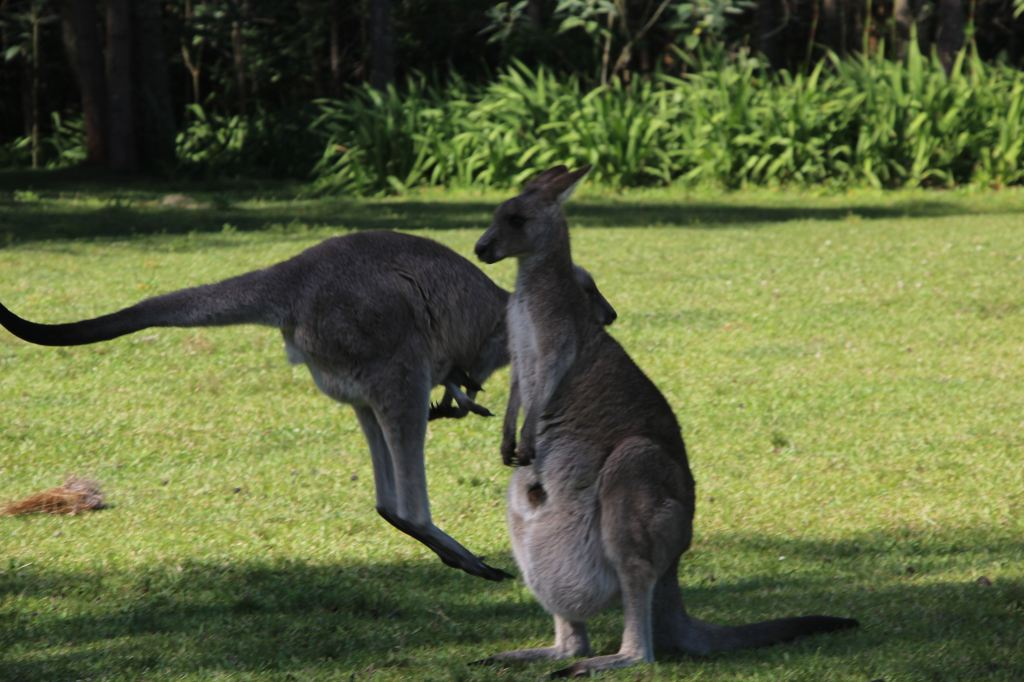kangaroo: (5, 222, 630, 586), (467, 159, 864, 672)
